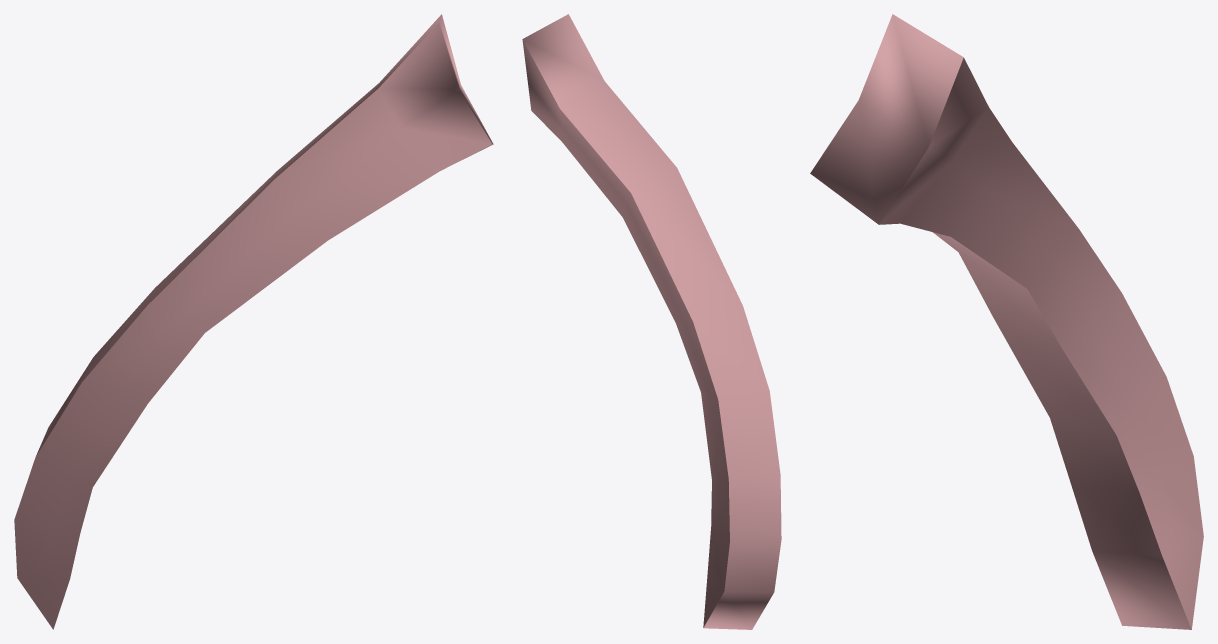
3 views of the same model, side by side, from view 1: azimuth 30°, elevation 25°; view 2: azimuth 150°, elevation 25°; view 3: azimuth 270°, elevation 25° (orthographic). The views are drawn at different scales.
Parts seen in each view (by area): view 1: ZA_9b9554fbbcd9e515; view 2: ZA_9b9554fbbcd9e515; view 3: ZA_9b9554fbbcd9e515.
Part boxes in pixels (box(x1,y1,x2,y2)): ZA_9b9554fbbcd9e515: box(14, 14, 493, 629); ZA_9b9554fbbcd9e515: box(522, 14, 781, 629); ZA_9b9554fbbcd9e515: box(810, 14, 1203, 629).
Bounding box in the file's own units: 0.0207 × 0.0304 × 0.0133.
